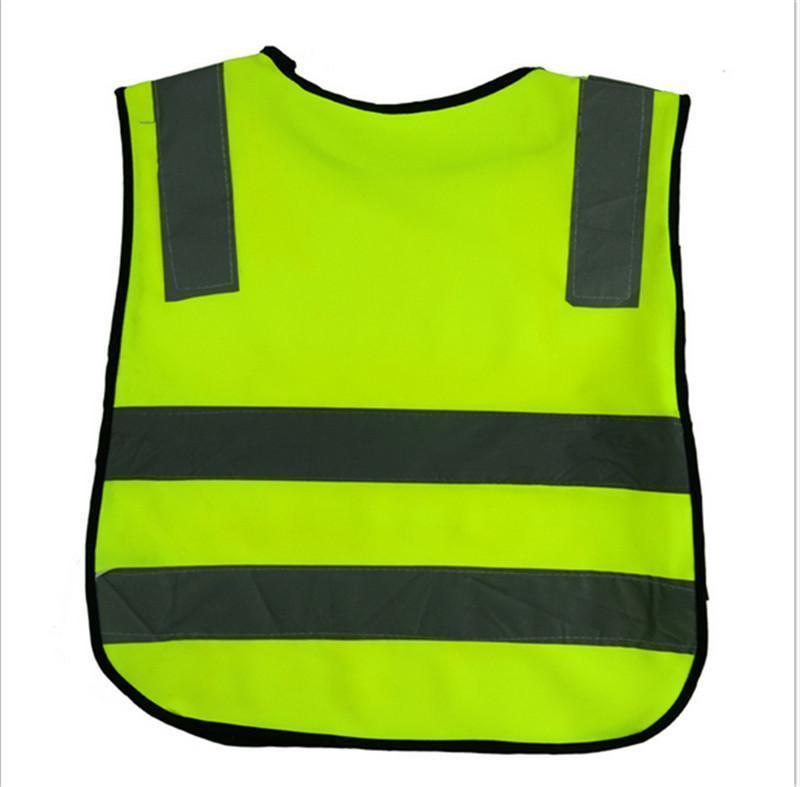Glass: (70, 39, 721, 764)
